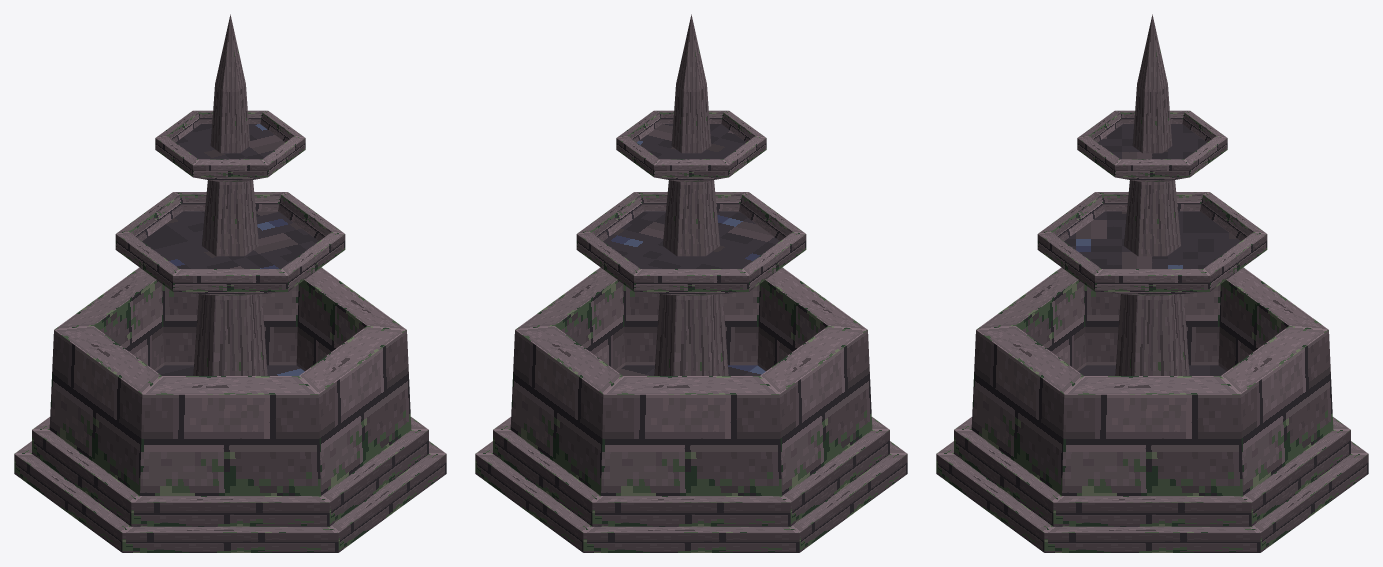
Rendered from well_of_sirius_verbraucht.glb.
3 views of the same model, side by side, from view 1: azimuth 30°, elevation 25°; view 2: azimuth 150°, elevation 25°; view 3: azimuth 270°, elevation 25° (orthographic).
Visible parts, largest first — view 1: body, column; view 2: body, column; view 3: body, column.
Part boxes in pixels (x1,y1,x2,y2): body: (14,267,446,552); column: (115,14,345,375); body: (475,267,907,552); column: (576,14,806,375); body: (936,267,1368,552); column: (1037,14,1267,375).
Bounding box in the file's own units: 1.7 × 2.3 × 1.96.
2 materials, 2 textured.
